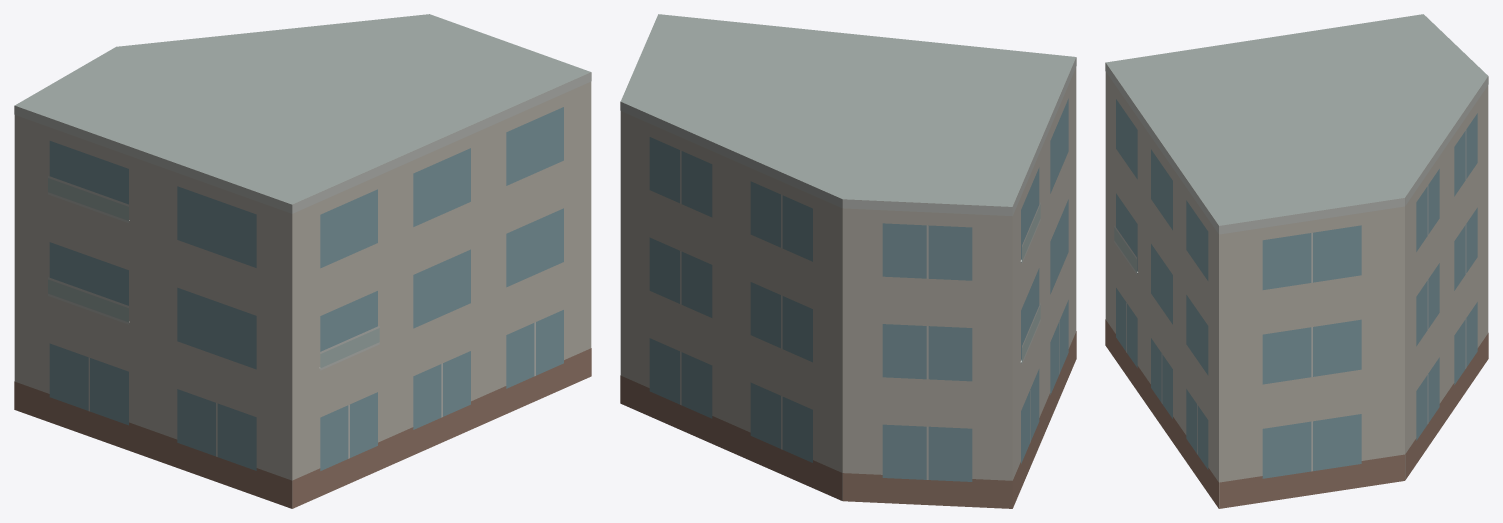
File: survey-upis-32979650.glb
3 renders of one model, left to right at view 1: azimuth 30°, elevation 25°; view 2: azimuth 150°, elevation 25°; view 3: azimuth 270°, elevation 25°, orthographic. The views are drawn at different scales.
Parts seen in each view (by area): view 1: survey-upis-32979650.tmp; view 2: survey-upis-32979650.tmp; view 3: survey-upis-32979650.tmp.
Part boxes in pixels (x1,y1,x2,y2): survey-upis-32979650.tmp: (14,14,591,508); survey-upis-32979650.tmp: (620,14,1076,508); survey-upis-32979650.tmp: (1105,14,1488,508).
Bounding box in the file's own units: 12.86 × 8 × 9.82.
